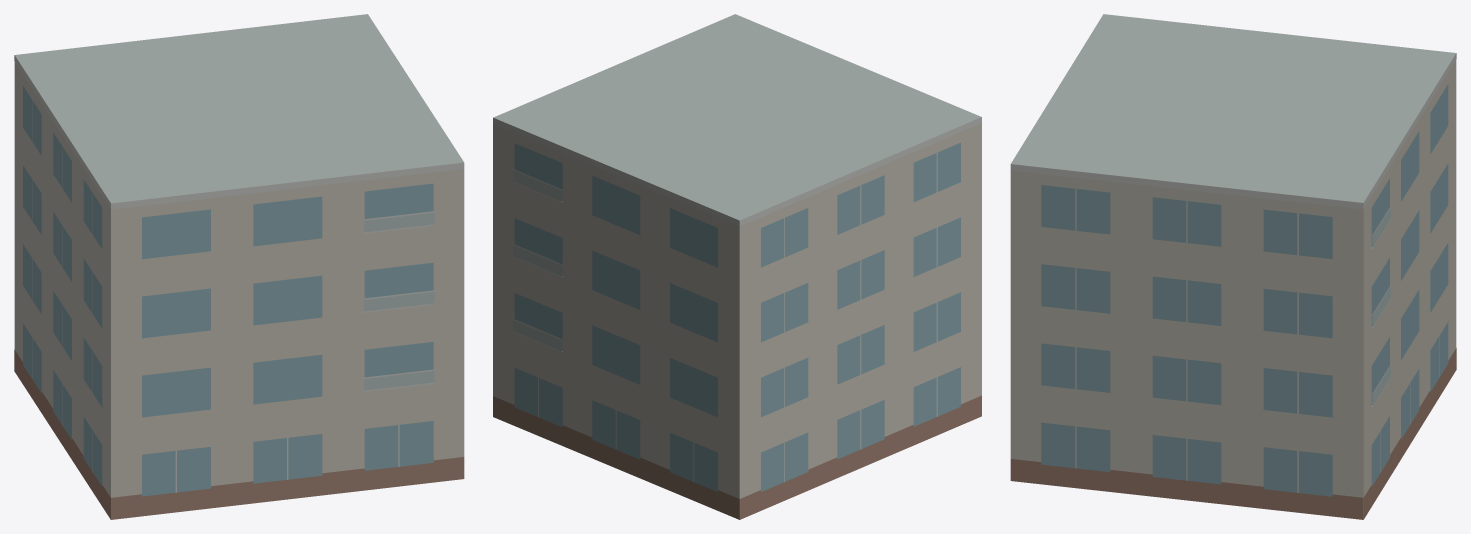
Rendered from residential-22a2ab64-b5a9-4bfd-807b-15e0e6739d62.glb.
3 renders of one model, left to right at view 1: azimuth 30°, elevation 25°; view 2: azimuth 150°, elevation 25°; view 3: azimuth 270°, elevation 25°, orthographic. The views are drawn at different scales.
Visible parts, largest first — view 1: residential-22a2ab64-b5a9-4bfd-807b-15e0e6739d62.tmp; view 2: residential-22a2ab64-b5a9-4bfd-807b-15e0e6739d62.tmp; view 3: residential-22a2ab64-b5a9-4bfd-807b-15e0e6739d62.tmp.
Boxes of the visible parts, x1,y1,x2,y2 form: residential-22a2ab64-b5a9-4bfd-807b-15e0e6739d62.tmp: (14,14,464,519); residential-22a2ab64-b5a9-4bfd-807b-15e0e6739d62.tmp: (493,14,981,519); residential-22a2ab64-b5a9-4bfd-807b-15e0e6739d62.tmp: (1010,14,1456,519).
Size of the model in its own units: 15.61 by 12.2 by 15.56.
